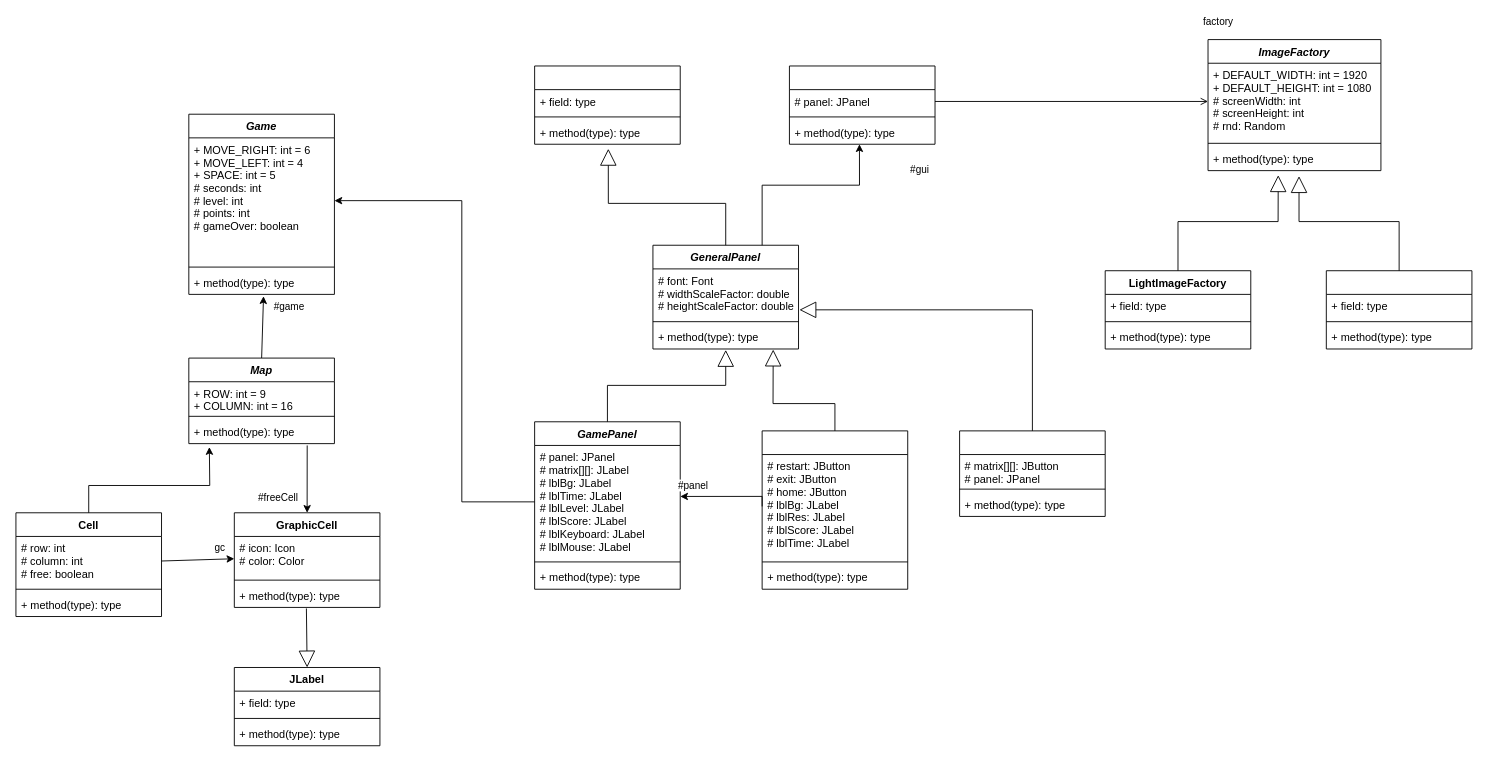
The diagram is 1488 pixels wide and 763 high, and some of its shapes have lost their labels. The box of each missing label's shape, as (x1, y1, x2, y2) in pixels:
DarkImageFactory: (1325, 270, 1472, 349)
GameOverPanel: (761, 430, 908, 589)
GUI: (789, 65, 935, 144)
InitialPanel: (959, 430, 1105, 516)
JPanel: (534, 65, 680, 144)
